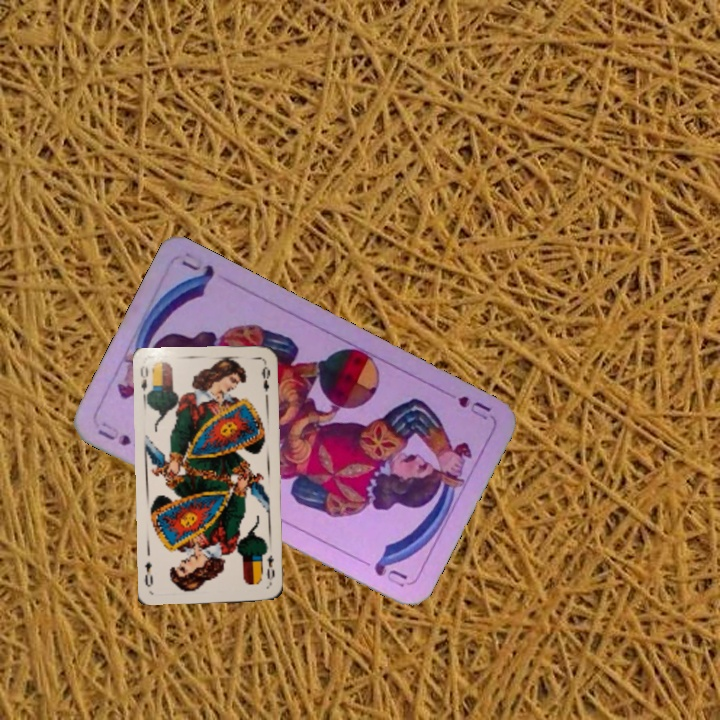EO: (136, 362, 155, 401), (263, 551, 277, 587)
SU: (453, 391, 494, 423), (93, 418, 134, 449)
